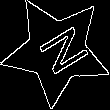N_SW: (26, 21, 88, 81)
